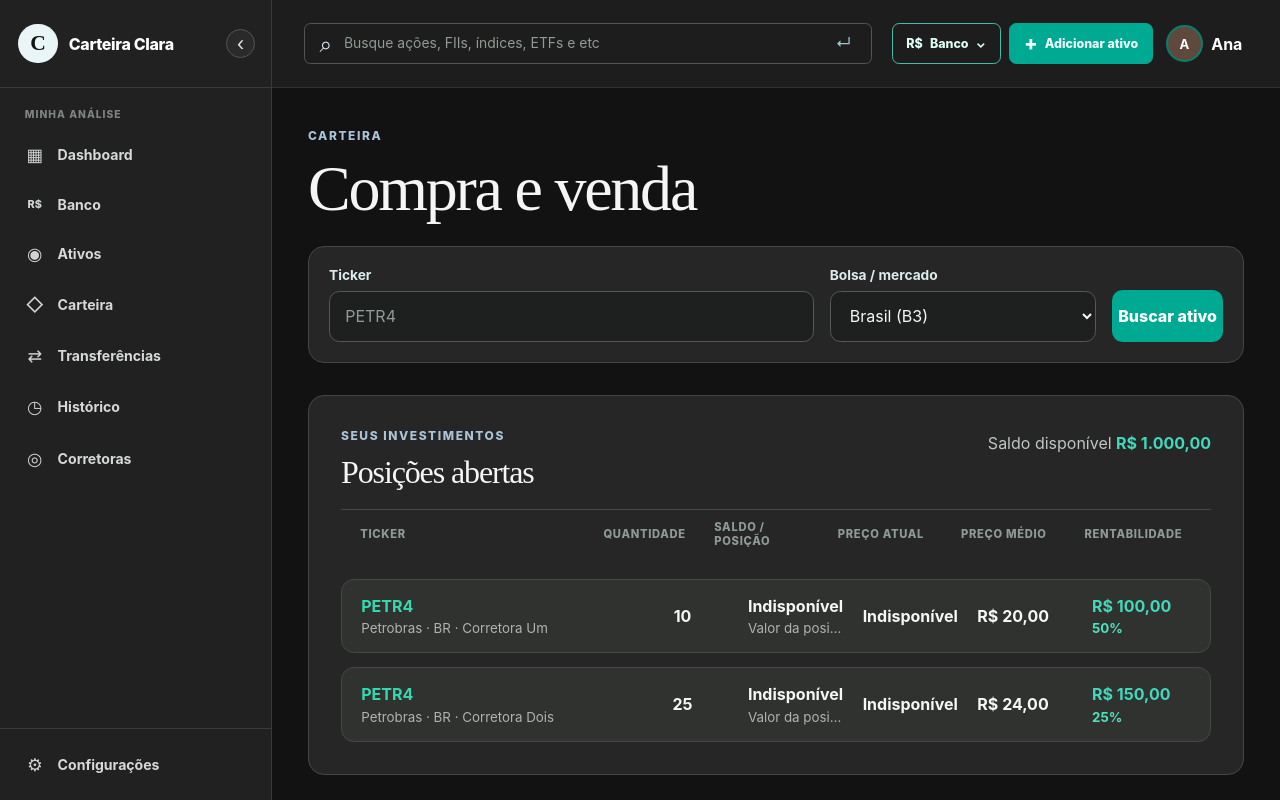
Test case: operations private route › troca os dados da posição conforme a corretora selecionada no modal
Click the 5th button at (776, 616), box [341,579,1211,653]
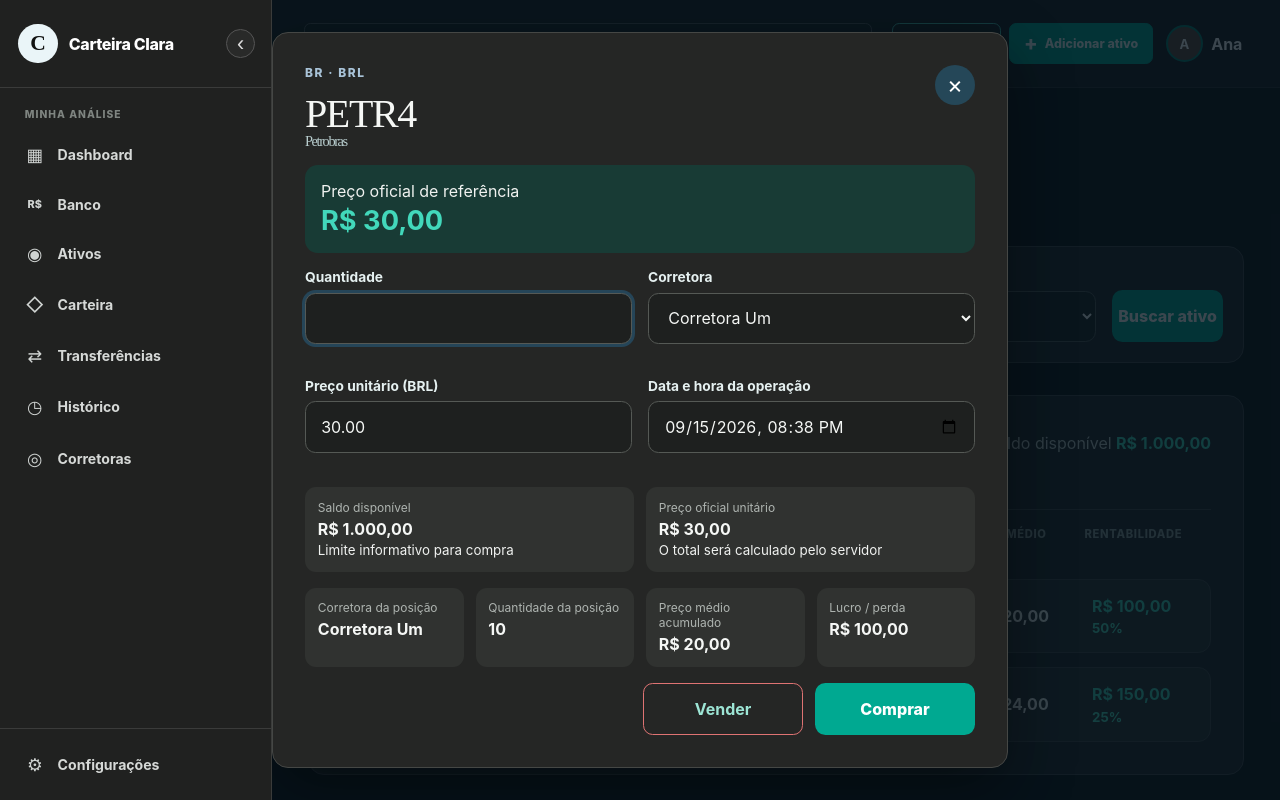
Expected: the text "Corretora Um" is shown, [318,619,423,639]
Expected: the text "10" is shown, [488,619,506,639]
Select "Corretora Dois" in the dropdown labelled "Corretora" at (812, 318), box [648,293,975,344]
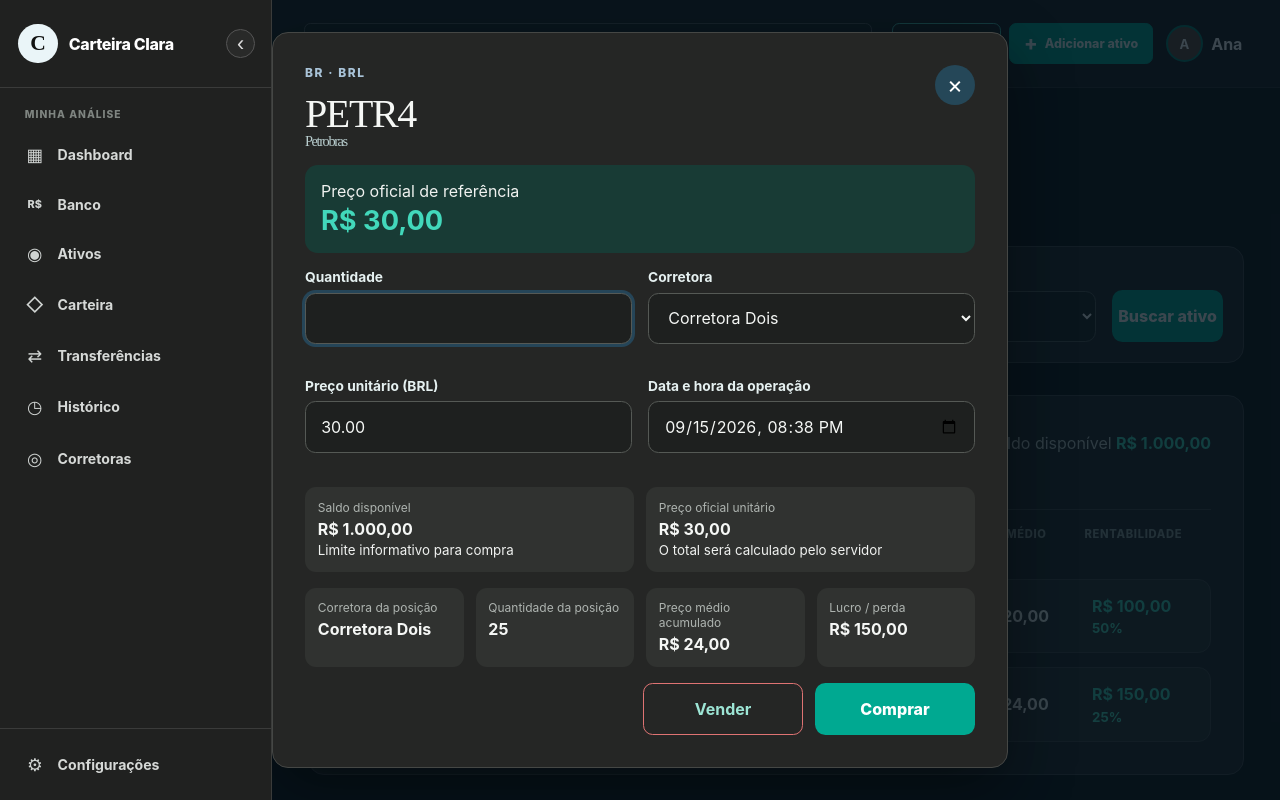
Expected: the text "Corretora Dois" is shown, [318,619,451,639]
Expected: the text "25" is shown, [488,619,508,639]
